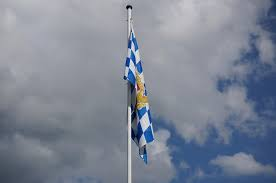Flag: (123, 25, 155, 165)
